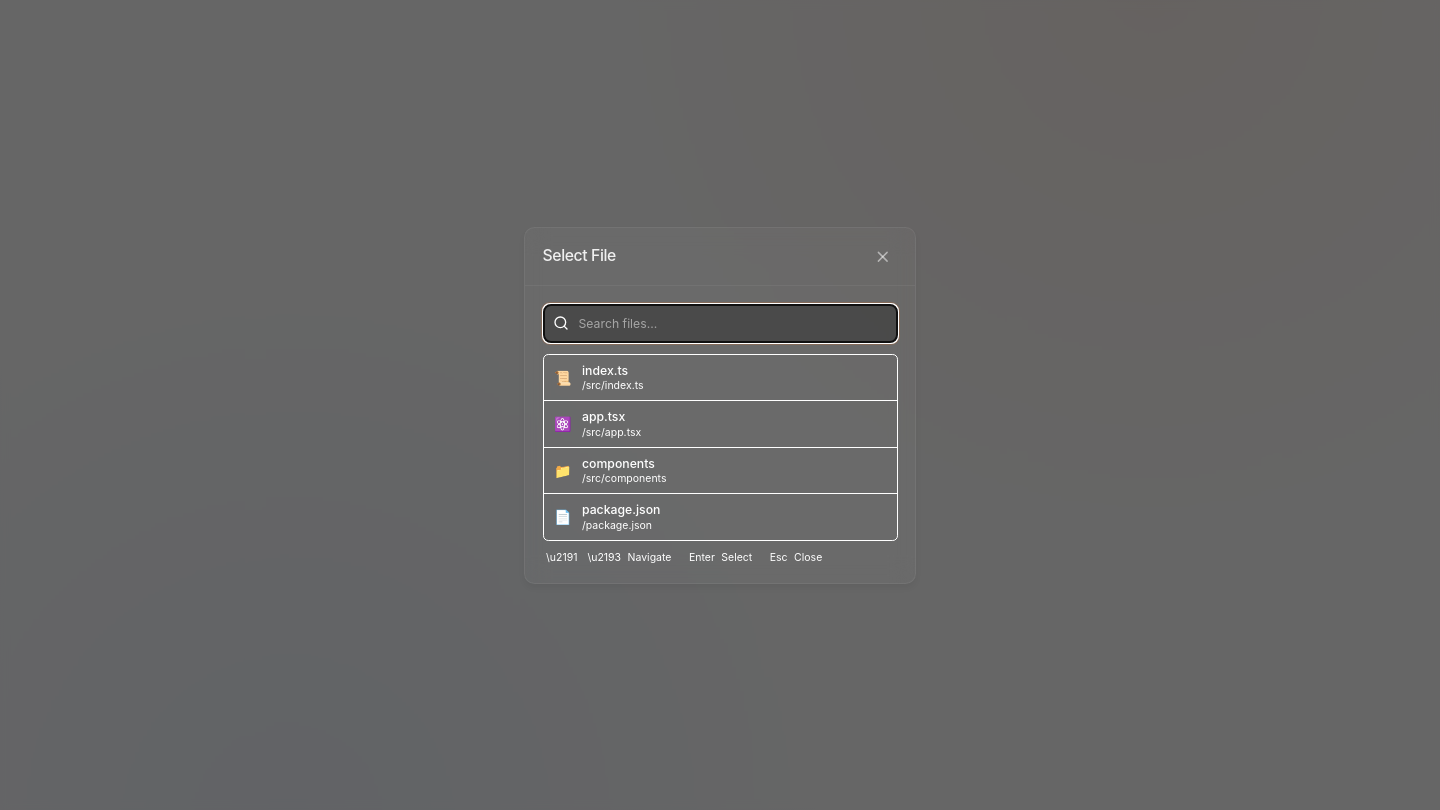
Test case: FilePickerModal › search functionality › should filter files by name
The width and height of the screenshot is (1440, 810).
Type "index" into the field with placeholder "Search files..." at {"x": 720, "y": 323}, box x1=542 y1=304 x2=898 y2=343
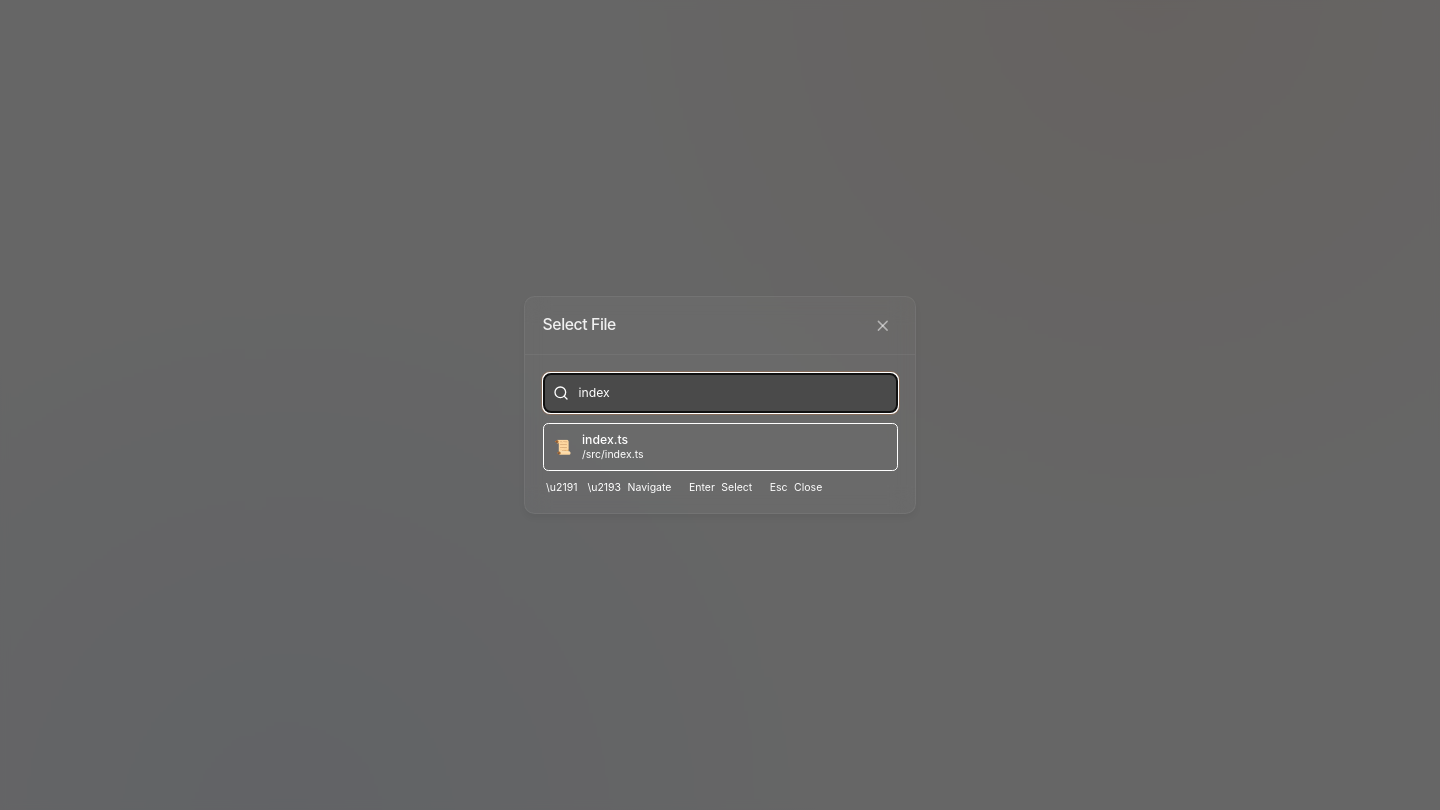
Expected: the text "index.ts" is shown, x1=582 y1=432 x2=628 y2=447
Expected: the option "app.tsx" is gone
